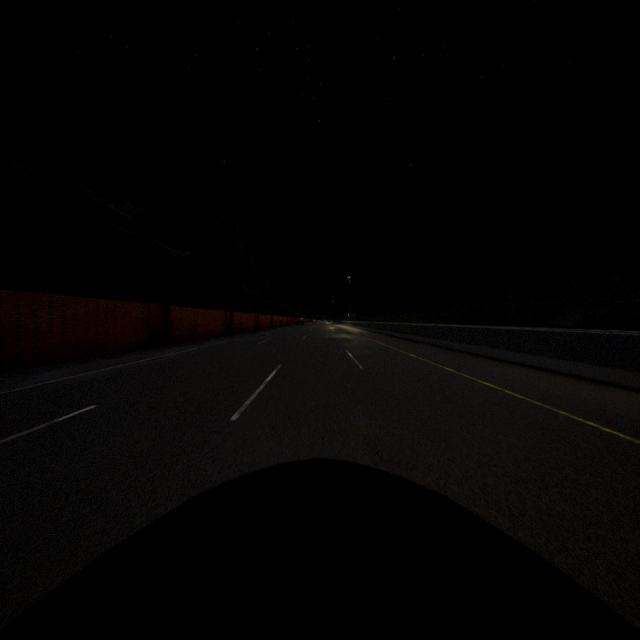Vehicle: (0, 465, 640, 640), (295, 316, 306, 326)
